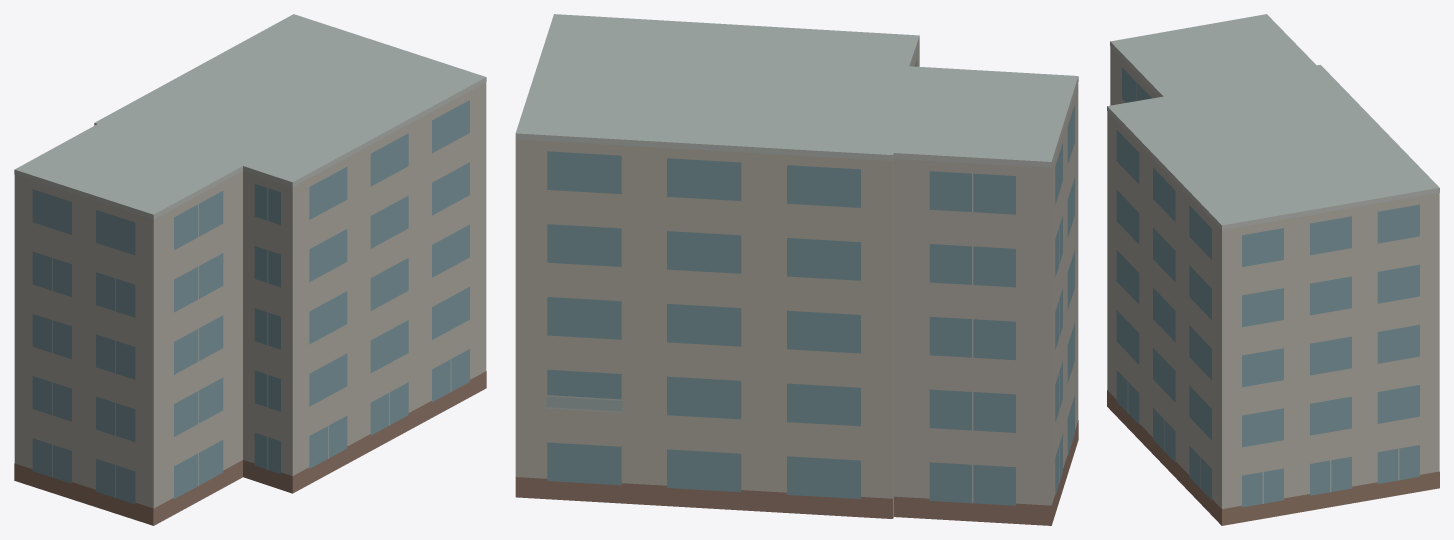
The model's file is survey-upis-32759107.glb.
3 views of the same model, side by side, from view 1: azimuth 30°, elevation 25°; view 2: azimuth 150°, elevation 25°; view 3: azimuth 270°, elevation 25° (orthographic). The views are drawn at different scales.
Parts seen in each view (by area): view 1: survey-upis-32759107.tmp; view 2: survey-upis-32759107.tmp; view 3: survey-upis-32759107.tmp.
Part boxes in pixels (left/top/right/bottom): survey-upis-32759107.tmp: left=14, top=14, right=486, bottom=525; survey-upis-32759107.tmp: left=515, top=14, right=1078, bottom=525; survey-upis-32759107.tmp: left=1107, top=14, right=1439, bottom=525.
Size of the model in its own units: 23.02 by 15.25 by 15.31.
